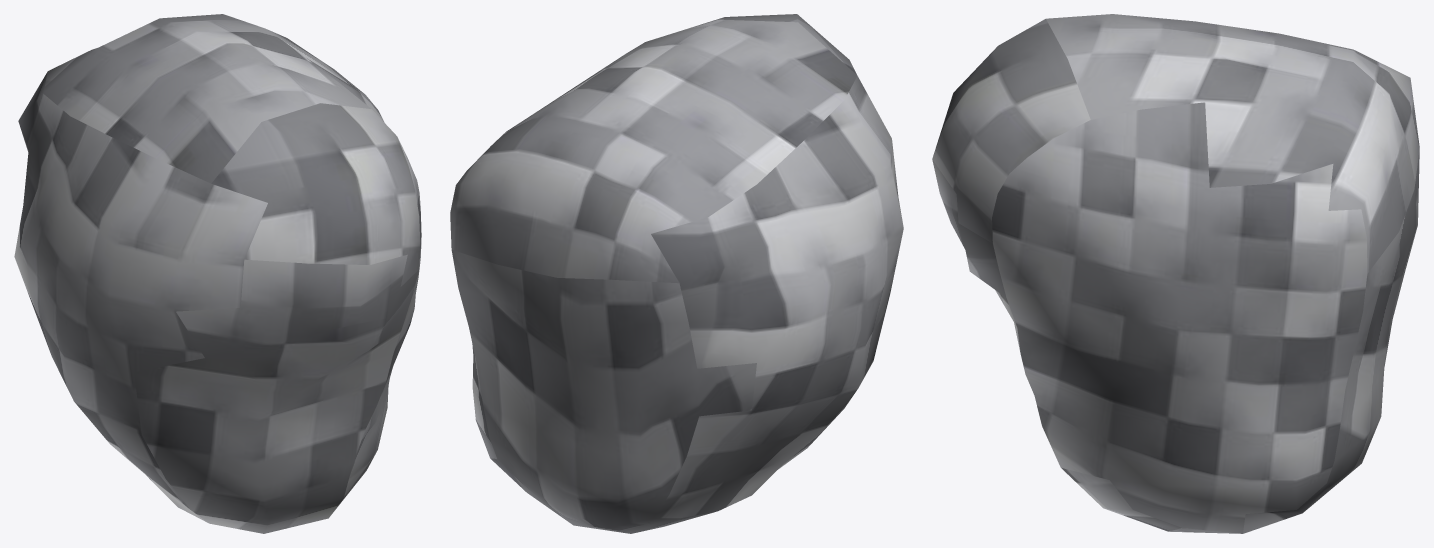
The model's file is Rock 04.fbx.
The picture shows the model from 3 angles, left to right: view 1: azimuth 30°, elevation 25°; view 2: azimuth 150°, elevation 25°; view 3: azimuth 270°, elevation 25°; orthographic projection. The views are drawn at different scales.
Parts seen in each view (by area): view 1: Rock.004; view 2: Rock.004; view 3: Rock.004.
Boxes of the visible parts, left/top/right/bottom form: Rock.004: left=14, top=14, right=421, bottom=533; Rock.004: left=450, top=14, right=903, bottom=533; Rock.004: left=932, top=14, right=1419, bottom=533.
Bounding box in the file's own units: 0.804 × 0.8573 × 0.6673.
